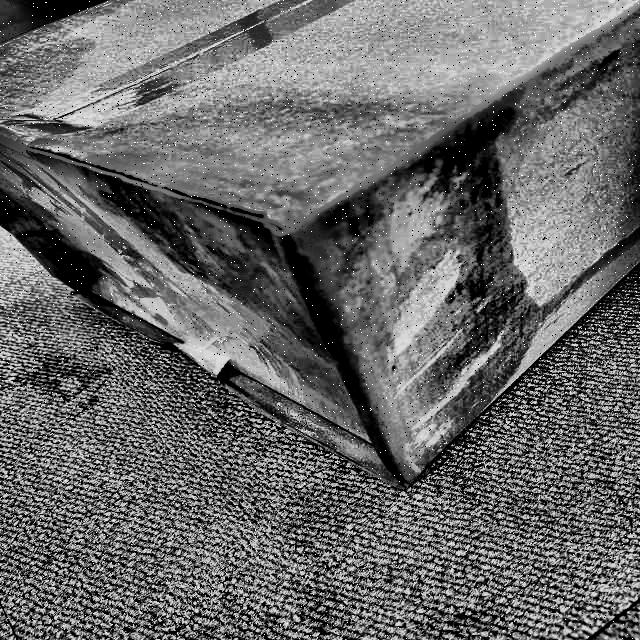box: (0, 0, 640, 502)
wet: (50, 92, 533, 490)
